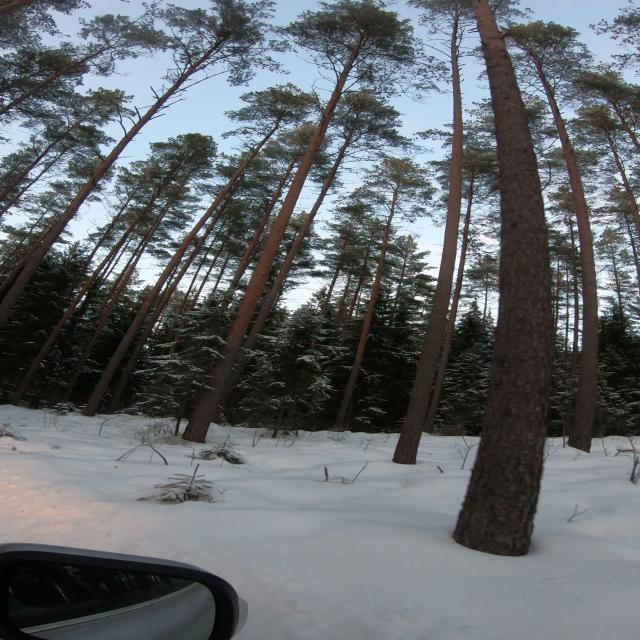trees: (186, 0, 417, 442), (86, 119, 280, 415), (453, 0, 553, 556), (0, 63, 196, 325), (242, 96, 375, 349), (393, 14, 463, 464), (529, 52, 598, 451), (32, 205, 150, 370), (63, 211, 166, 400), (334, 186, 399, 430), (0, 54, 98, 115), (10, 321, 61, 404), (214, 354, 248, 417)
